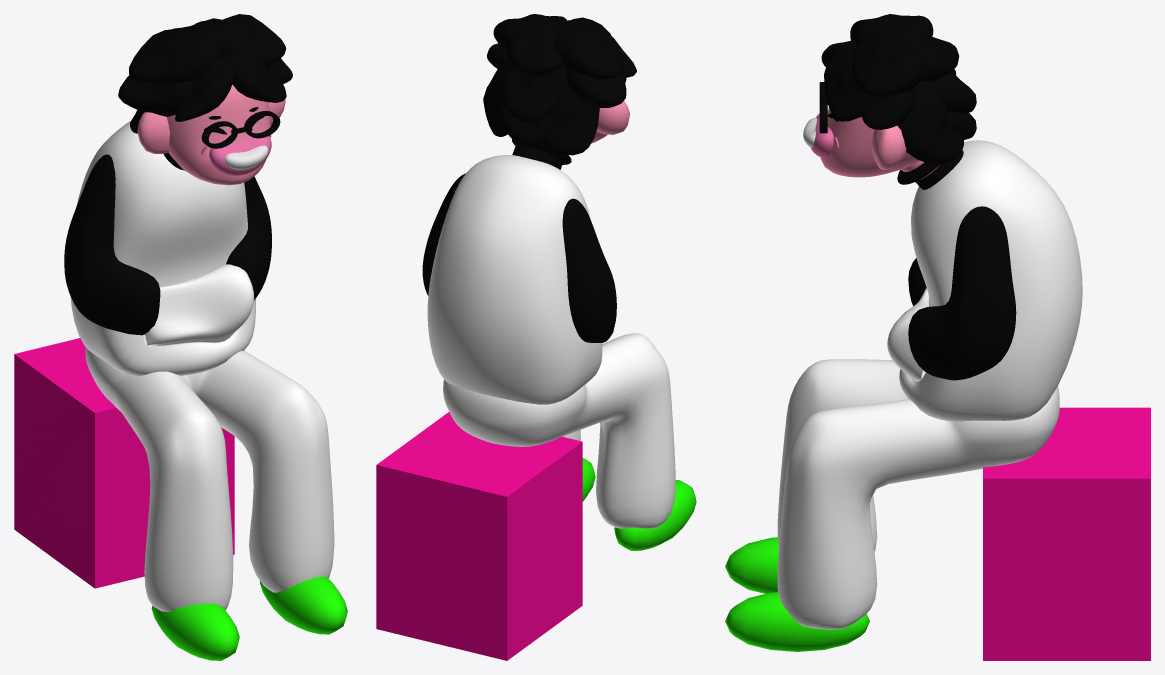
File: worker_smile.glb
3 views of the same model, side by side, from view 1: azimuth 30°, elevation 25°; view 2: azimuth 150°, elevation 25°; view 3: azimuth 270°, elevation 25° (orthographic). The views are drawn at different scales.
Parts seen in each view (by area): view 1: pCube10, pCube9, 1body1, 3-2body, pCube1, pSphere9.006, pCube13, pCube12, pSphere9.005, pSphere9.007, pSphere9.003, pSphere9.004 (+4 smaller); view 2: pCube9, 1body1, pCube10, 3-2body, pSphere9.006, pSphere9.010, pSphere9.009, pSphere9.008, pCube13, pSphere9.007, pSphere9.011, pSphere9.012 (+3 smaller); view 3: pCube9, pCube10, 1body1, 3-2body, pCube12, pCube1, pSphere9.005, pSphere9.011, pCube13, pSphere9.003, pSphere9.008, pSphere9.002 (+2 smaller).
Boxes of the visible parts, x1,y1,x2,y2 form: pCube10: [85, 334, 334, 611]; pCube9: [14, 338, 234, 588]; 1body1: [70, 121, 255, 375]; 3-2body: [64, 154, 271, 335]; pCube1: [137, 84, 285, 185]; pSphere9.006: [129, 29, 221, 85]; pCube13: [151, 603, 239, 660]; pCube12: [259, 576, 347, 634]; pSphere9.005: [217, 14, 286, 65]; pSphere9.007: [118, 75, 193, 116]; pSphere9.003: [221, 54, 286, 102]; pSphere9.004: [175, 57, 234, 121]; pCube9: [376, 412, 582, 660]; 1body1: [427, 155, 602, 404]; pCube10: [443, 333, 675, 528]; 3-2body: [422, 173, 616, 342]; pSphere9.006: [554, 17, 623, 79]; pSphere9.010: [531, 85, 599, 155]; pSphere9.009: [500, 65, 567, 122]; pSphere9.008: [507, 18, 569, 76]; pCube13: [614, 480, 696, 550]; pSphere9.007: [567, 70, 626, 107]; pSphere9.011: [483, 60, 511, 136]; pSphere9.012: [500, 101, 544, 145]; pCube9: [983, 407, 1150, 660]; pCube10: [777, 359, 1059, 629]; 1body1: [887, 140, 1082, 421]; 3-2body: [908, 206, 1016, 380]; pCube12: [725, 592, 869, 651]; pCube1: [820, 107, 939, 179]; pSphere9.005: [852, 33, 926, 98]; pSphere9.011: [897, 80, 963, 164]; pCube13: [725, 537, 778, 593]; pSphere9.003: [824, 46, 872, 121]; pSphere9.008: [875, 23, 959, 82]; pSphere9.002: [860, 90, 914, 129].
Size of the model in its own units: 0.4183 by 1.18 by 0.7618.
